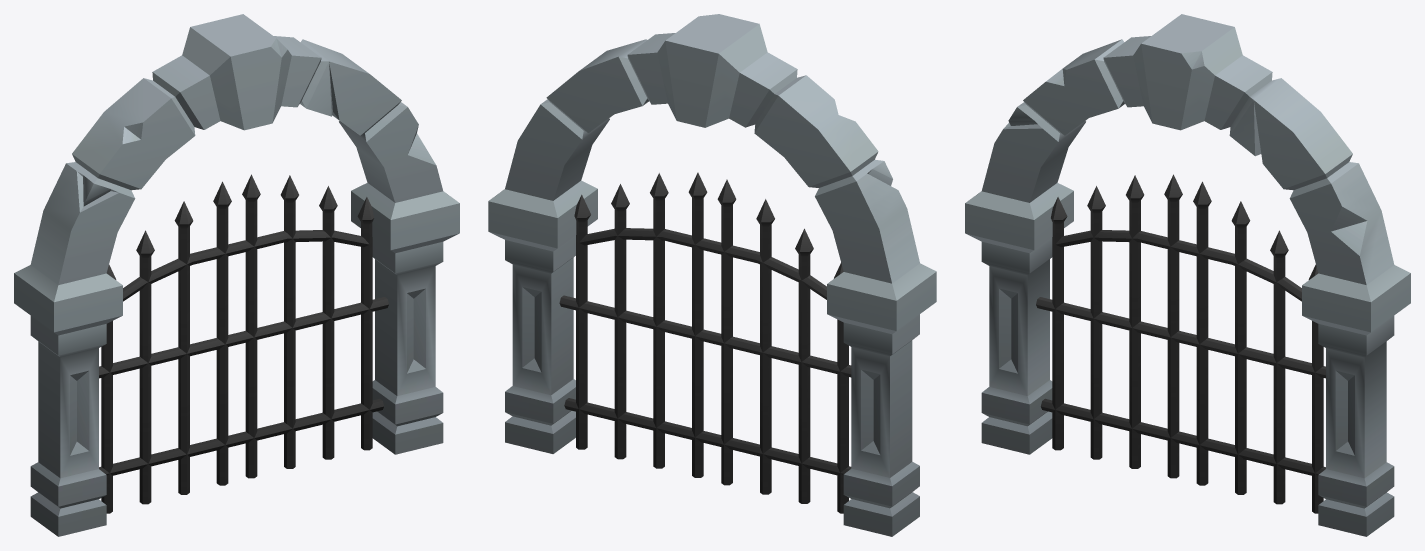
The model's file is arch-gate.glb.
The picture shows the model from 3 angles, left to right: view 1: azimuth 30°, elevation 25°; view 2: azimuth 150°, elevation 25°; view 3: azimuth 330°, elevation 25°; orthographic projection.
Parts seen in each view (by area): view 1: Cube.632, arch_gate_left, arch_gate_right; view 2: Cube.632, arch_gate_left, arch_gate_right; view 3: Cube.632, arch_gate_right, arch_gate_left.
Part boxes in pixels (x1,y1,x2,y2): Cube.632: (14,14,459,536); arch_gate_left: (236,174,388,478); arch_gate_right: (99,181,239,513); Cube.632: (488,14,936,536); arch_gate_left: (559,172,713,477); arch_gate_right: (709,179,851,513); Cube.632: (965,14,1410,536); arch_gate_right: (1036,174,1188,478); arch_gate_left: (1185,181,1325,513).
Bounding box in the file's own units: 4.22 × 4.41 × 0.77.
Materials: 1 (1 with a texture image).
